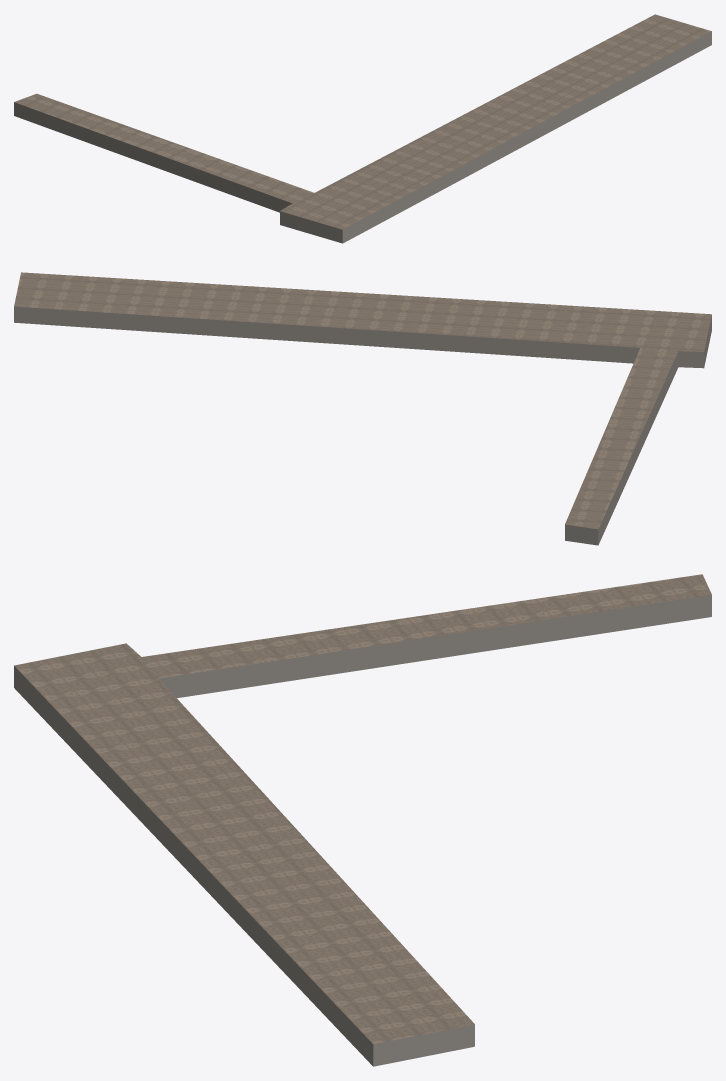
The picture shows the model from 3 angles, top to bottom: view 1: azimuth 30°, elevation 25°; view 2: azimuth 150°, elevation 25°; view 3: azimuth 270°, elevation 25°; orthographic projection. The views are drawn at different scales.
Visible parts, largest first — view 1: Landing wearing course, Exposed deck edge; view 2: Landing wearing course, Exposed deck edge; view 3: Landing wearing course, Exposed deck edge.
Boxes of the visible parts, x1,y1,x2,y2 form: Landing wearing course: (14,14,711,229); Exposed deck edge: (14,31,711,243); Landing wearing course: (14,272,711,529); Exposed deck edge: (14,306,711,545); Landing wearing course: (14,574,711,1044); Exposed deck edge: (14,594,711,1066).
Bounding box in the file's own units: 27.9 × 0.62 × 17.5.
Materials: 3 (1 with a texture image).
